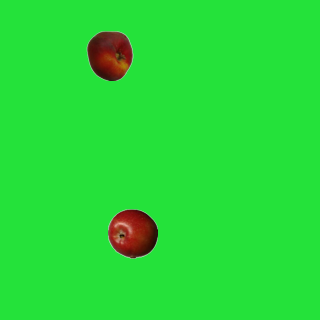Apple Braeburn: (107, 208, 157, 258)
Nectarine Flat: (84, 30, 134, 80)
